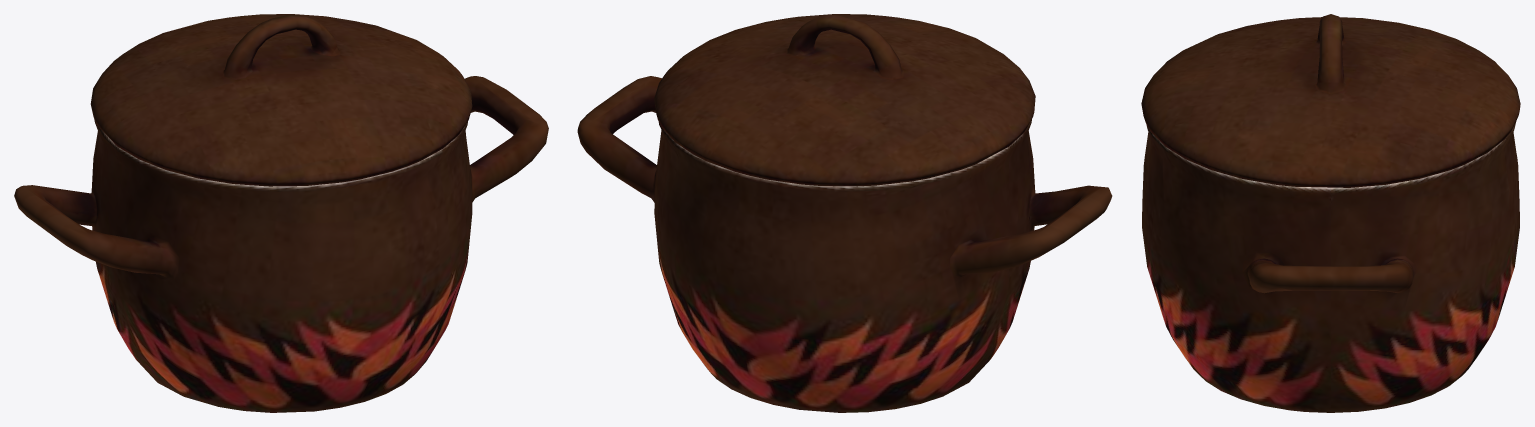
File: pot_enamel_01.glb
The picture shows the model from 3 angles, left to right: view 1: azimuth 30°, elevation 25°; view 2: azimuth 150°, elevation 25°; view 3: azimuth 270°, elevation 25°; orthographic projection.
Visible parts, largest first — view 1: pot_enamel_01_base, pot_enamel_01_lid; view 2: pot_enamel_01_base, pot_enamel_01_lid; view 3: pot_enamel_01_base, pot_enamel_01_lid.
Boxes of the visible parts, bbox=[...] form: pot_enamel_01_base: bbox=[14, 76, 548, 412]; pot_enamel_01_lid: bbox=[90, 14, 472, 186]; pot_enamel_01_base: bbox=[577, 76, 1112, 412]; pot_enamel_01_lid: bbox=[654, 14, 1035, 186]; pot_enamel_01_base: bbox=[1142, 121, 1519, 412]; pot_enamel_01_lid: bbox=[1141, 14, 1520, 187].
Size of the model in its own units: 0.2627 by 0.178 by 0.1805.
Materials: 1 (1 with a texture image).
